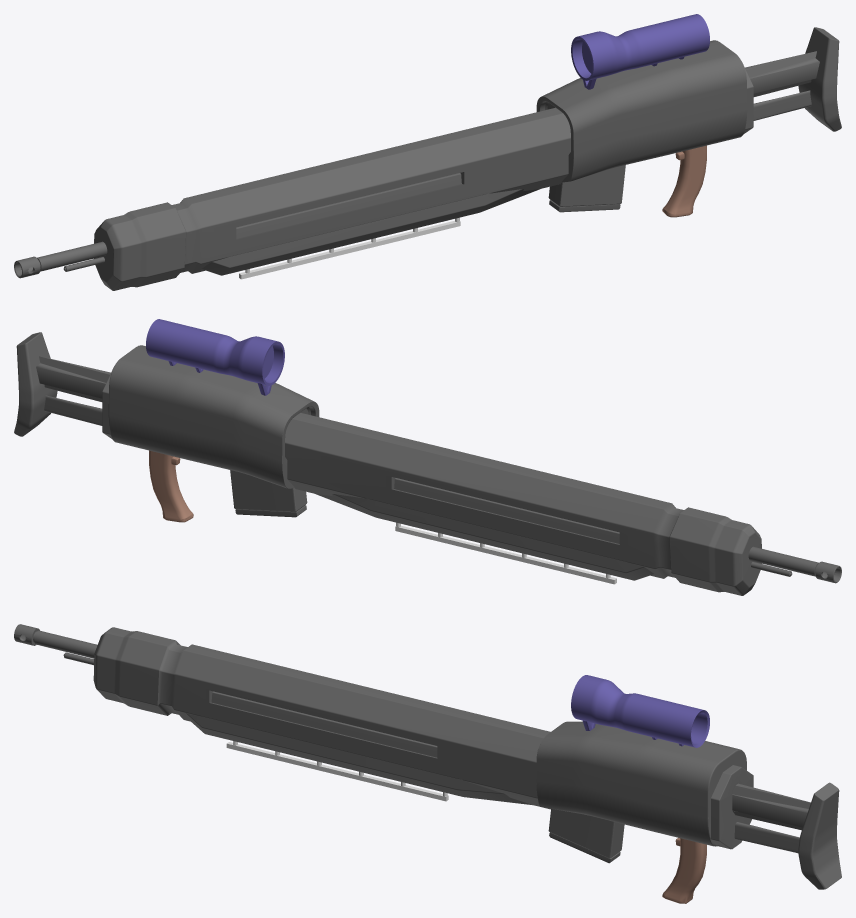
Rendered from Rifle.fbx.
3 views of the same model, one above another, from view 1: azimuth 30°, elevation 25°; view 2: azimuth 150°, elevation 25°; view 3: azimuth 330°, elevation 25° (orthographic).
Visible parts, largest first — view 1: Barrel, Scope.001, Handle, Grip; view 2: Barrel, Scope.001, Handle, Grip; view 3: Barrel, Scope.001, Handle, Grip.
Boxes of the visible parts, x1=… form: Barrel: x1=14, y1=27, x2=841, y2=290; Scope.001: x1=571, y1=14, x2=709, y2=89; Handle: x1=662, y1=145, x2=706, y2=217; Grip: x1=239, y1=217, x2=460, y2=279; Barrel: x1=14, y1=332, x2=841, y2=595; Scope.001: x1=146, y1=319, x2=284, y2=395; Handle: x1=149, y1=450, x2=193, y2=522; Grip: x1=395, y1=522, x2=616, y2=584; Barrel: x1=14, y1=624, x2=841, y2=889; Scope.001: x1=571, y1=675, x2=709, y2=747; Handle: x1=662, y1=837, x2=706, y2=903; Grip: x1=226, y1=741, x2=448, y2=801.
Bounding box in the file's own units: 38.9 × 9.07 × 3.27.
